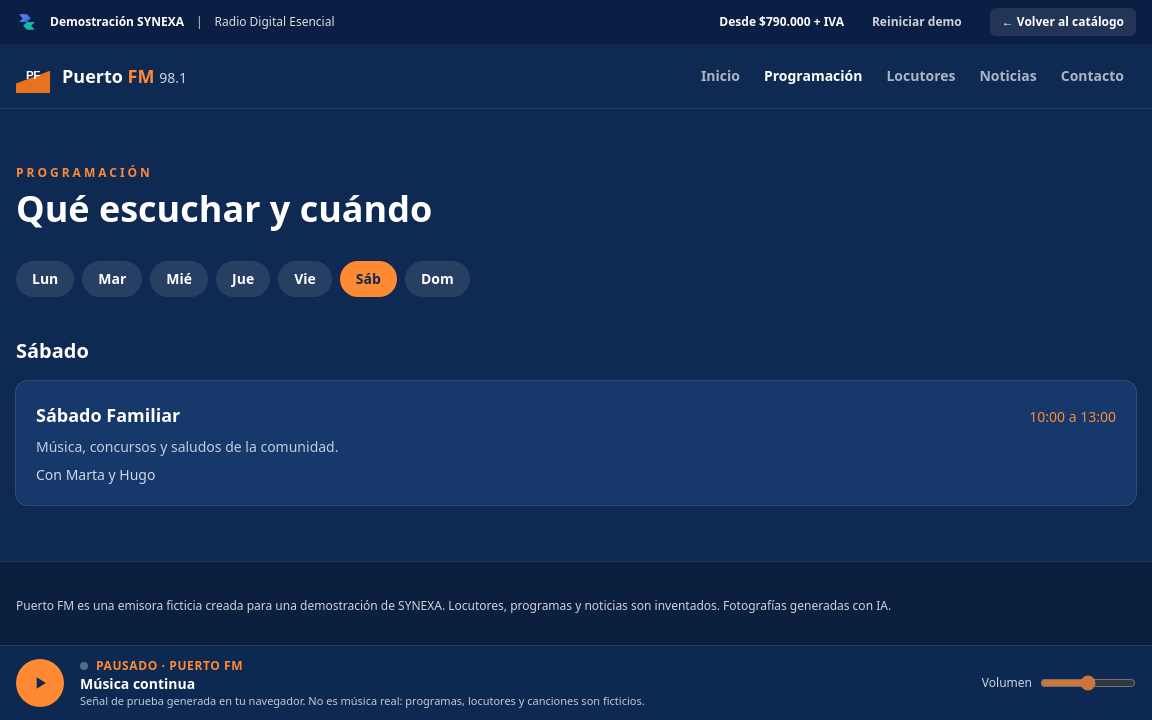
Test: demo Puerto FM › la programación cambia por día y avisa si no hay programas
Expected: the heading "Qué escuchar y cuándo" is shown, [16,184,432,233]
Click the button named "Sábado" at {"x": 368, "y": 279}, box [340,261,397,297]
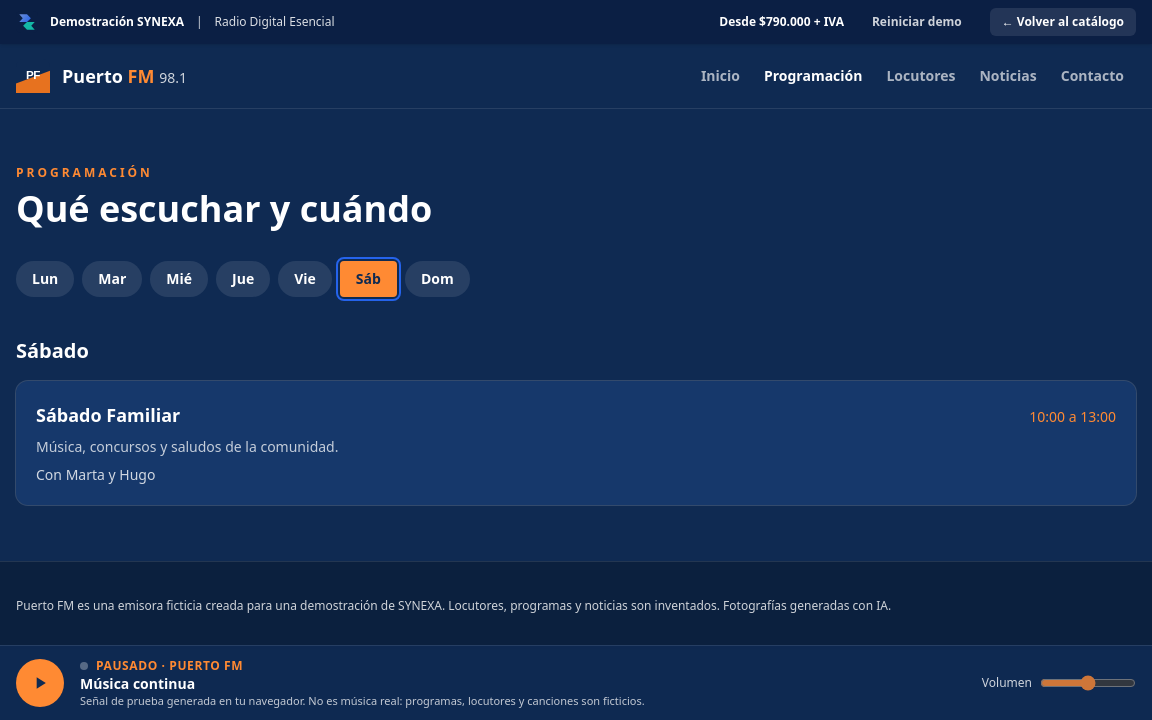
Expected: the heading "Sábado Familiar" is shown, [36,401,180,429]
Click the button named "Domingo" at {"x": 437, "y": 279}, box [405,261,470,297]
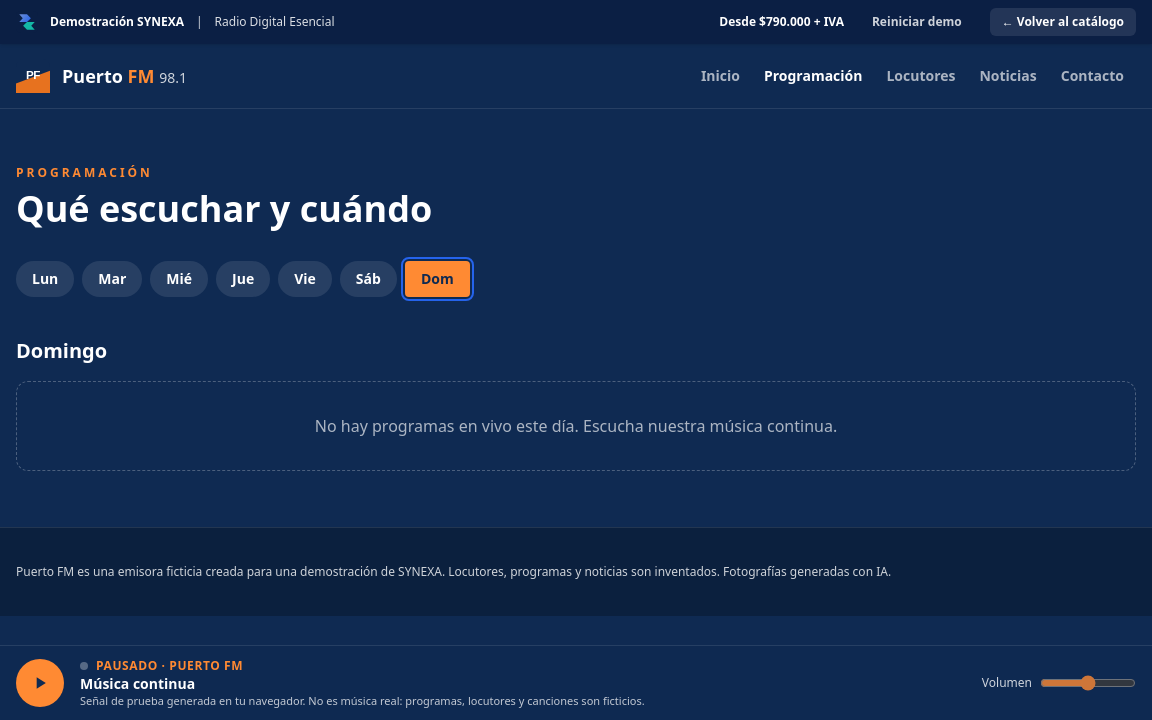
Expected: the text "No hay programas en vivo este día" is shown, [315,415,837,437]
